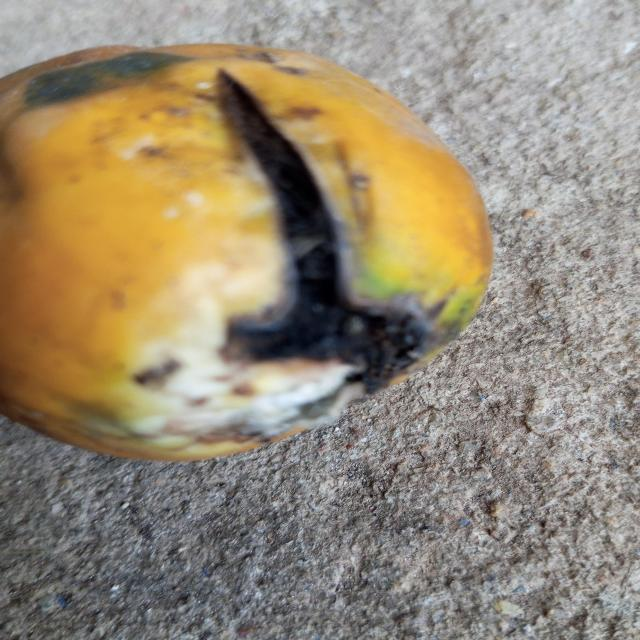damaged: (0, 45, 492, 459)
